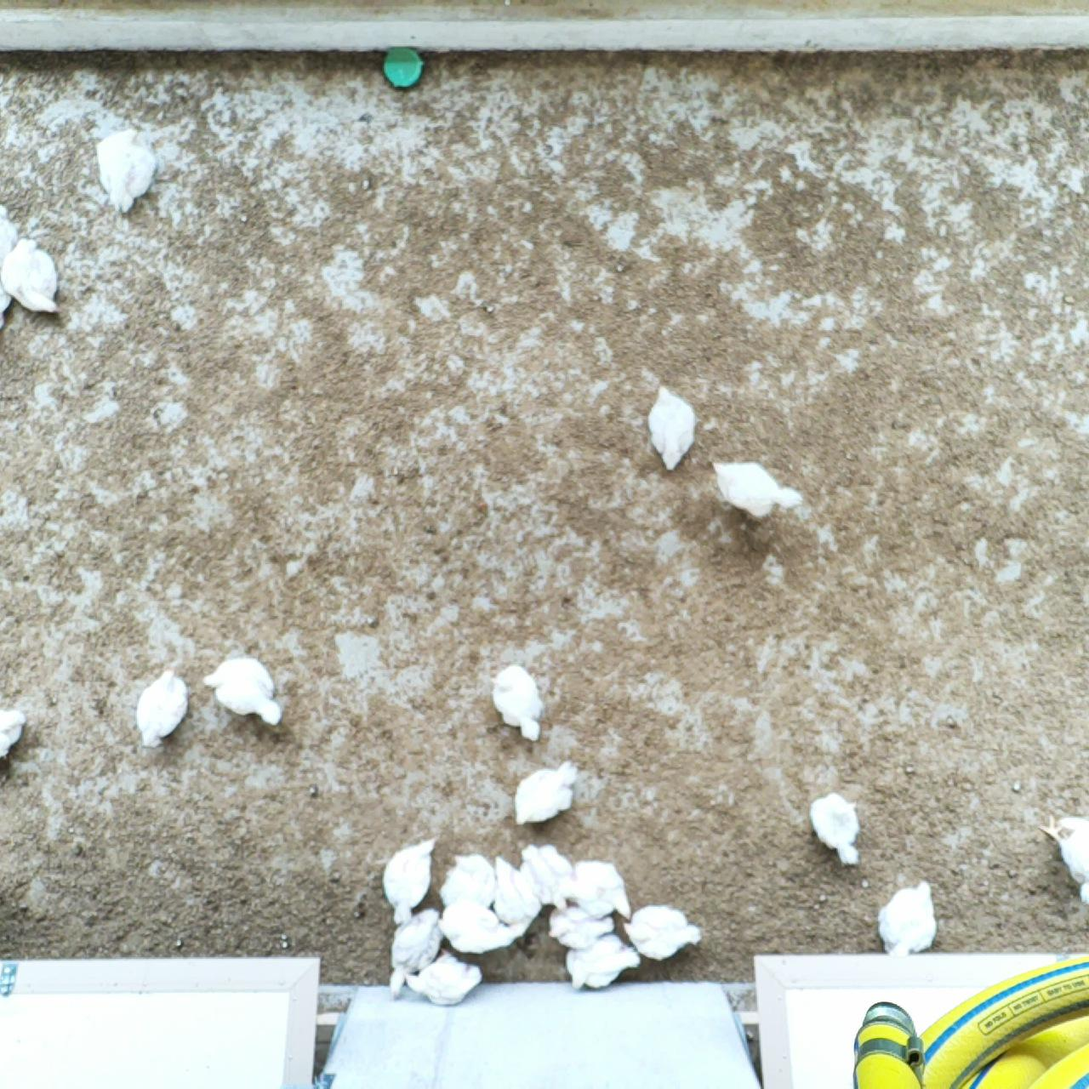chicken: (708, 455, 805, 522), (202, 652, 285, 728), (92, 125, 158, 220), (384, 904, 446, 1003), (379, 836, 439, 929), (641, 381, 701, 473), (401, 946, 483, 1013), (560, 930, 643, 996), (510, 756, 583, 831), (873, 878, 940, 956), (481, 851, 541, 938), (485, 662, 547, 746), (132, 664, 192, 750), (621, 899, 702, 962), (564, 857, 638, 924), (0, 233, 59, 314), (1039, 811, 1089, 905), (808, 789, 864, 870), (437, 900, 514, 958), (516, 840, 574, 916), (547, 898, 619, 949), (438, 851, 495, 911), (0, 704, 28, 757), (0, 202, 18, 261)
